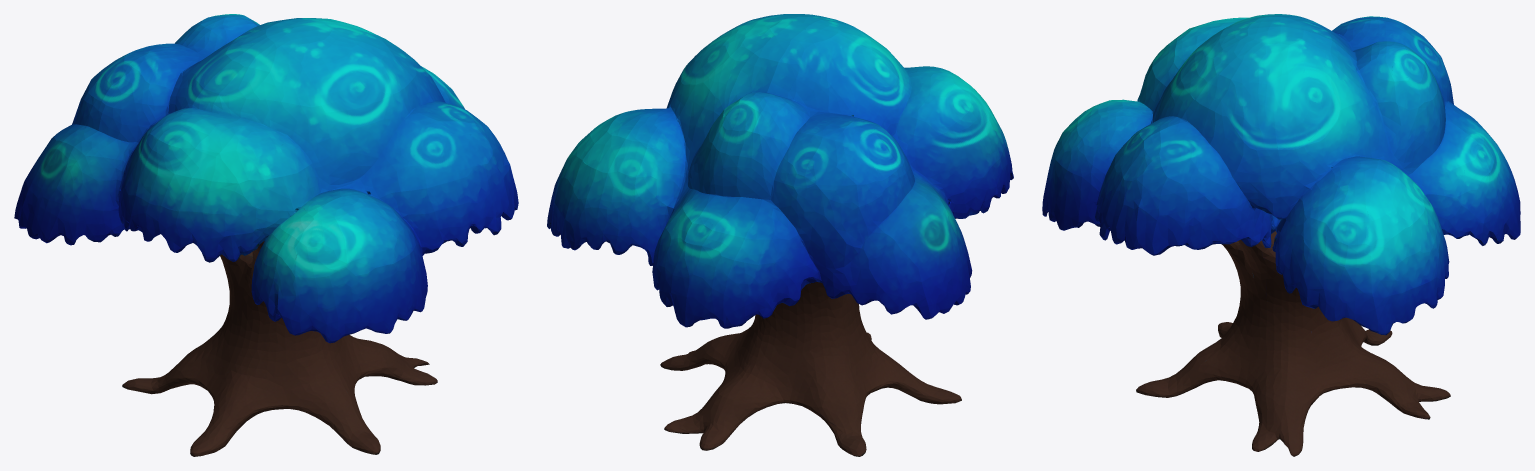
File: familiarity_tree-3.glb
The picture shows the model from 3 angles, left to right: view 1: azimuth 30°, elevation 25°; view 2: azimuth 150°, elevation 25°; view 3: azimuth 270°, elevation 25°; orthographic projection. The views are drawn at different scales.
Parts seen in each view (by area): view 1: world; view 2: world; view 3: world.
Boxes of the visible parts, <box> form: world: <box>14,14,518,456</box>; world: <box>547,14,1013,456</box>; world: <box>1042,14,1520,456</box>.
Bounding box in the file's own units: 0.9944 × 0.8359 × 0.9953.
1 material, 1 textured.
